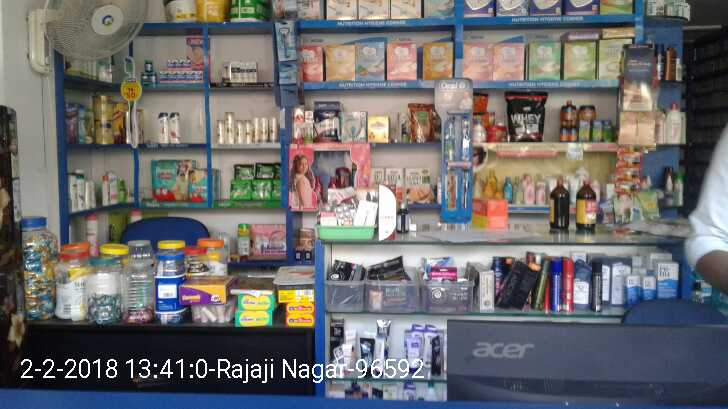beauty: (169, 109, 182, 144), (238, 61, 257, 83), (158, 111, 168, 144), (225, 110, 234, 145), (258, 115, 268, 145), (267, 116, 278, 142), (233, 119, 243, 145), (251, 117, 260, 144), (215, 117, 224, 144), (229, 59, 240, 81), (243, 118, 252, 144)
pharmacy: (153, 159, 189, 202), (187, 168, 216, 203), (158, 71, 203, 82), (230, 180, 252, 201), (232, 162, 257, 180), (164, 53, 193, 68), (255, 162, 276, 181), (253, 180, 271, 200), (139, 70, 150, 85), (141, 57, 153, 70), (149, 73, 157, 84)
